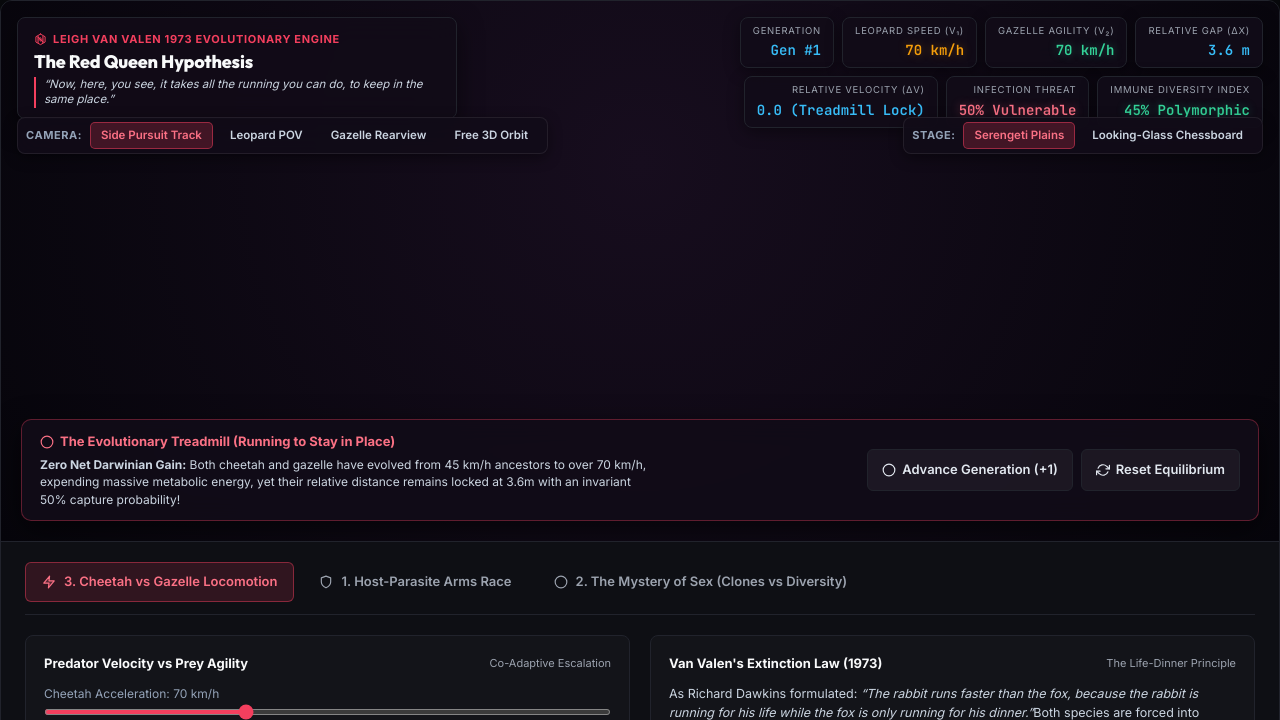
Scenario: RedQueen3DLab › adjusts predator and prey speed sliders in Tab 1
Set the slider named "Predator Speed" to "95" at (409,712), box [44, 709, 611, 715]
(page scrolled)
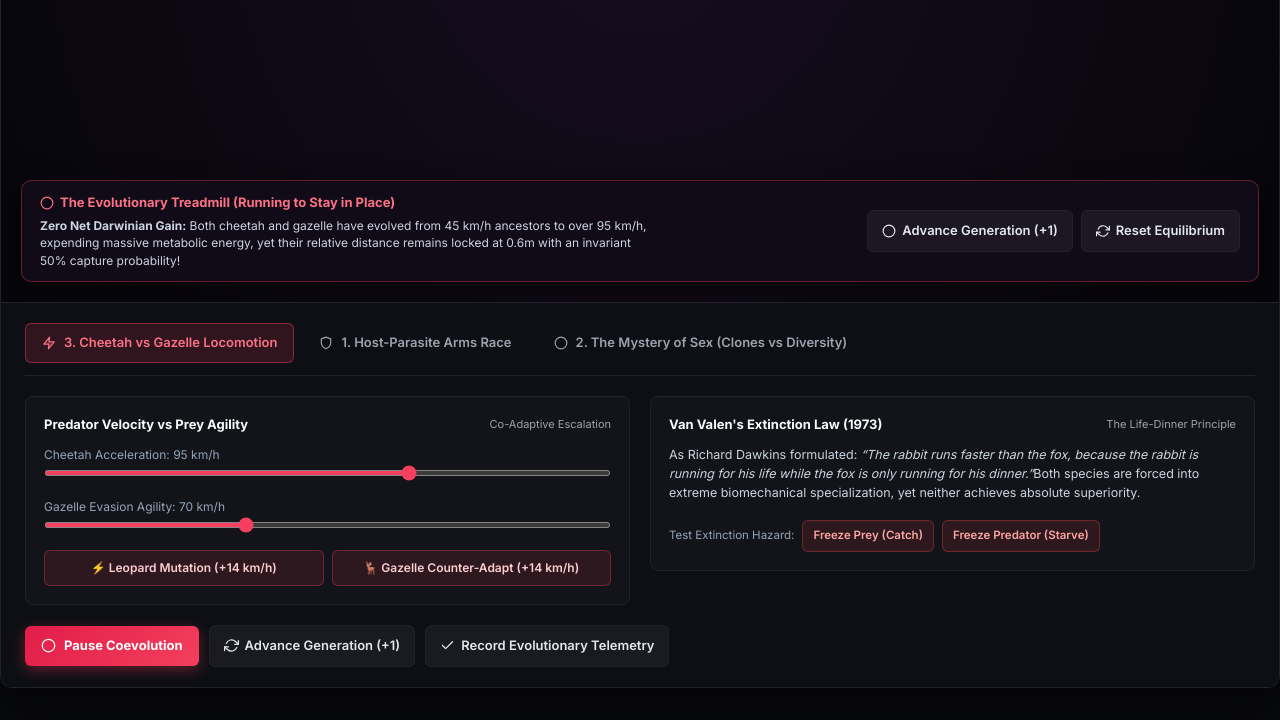
Expected: the text "Cheetah Acceleration: 95 km/h" is shown, [44, 446, 220, 464]
Set the slider named "Prey Agility" to "100" at (441,525), box [44, 522, 611, 528]
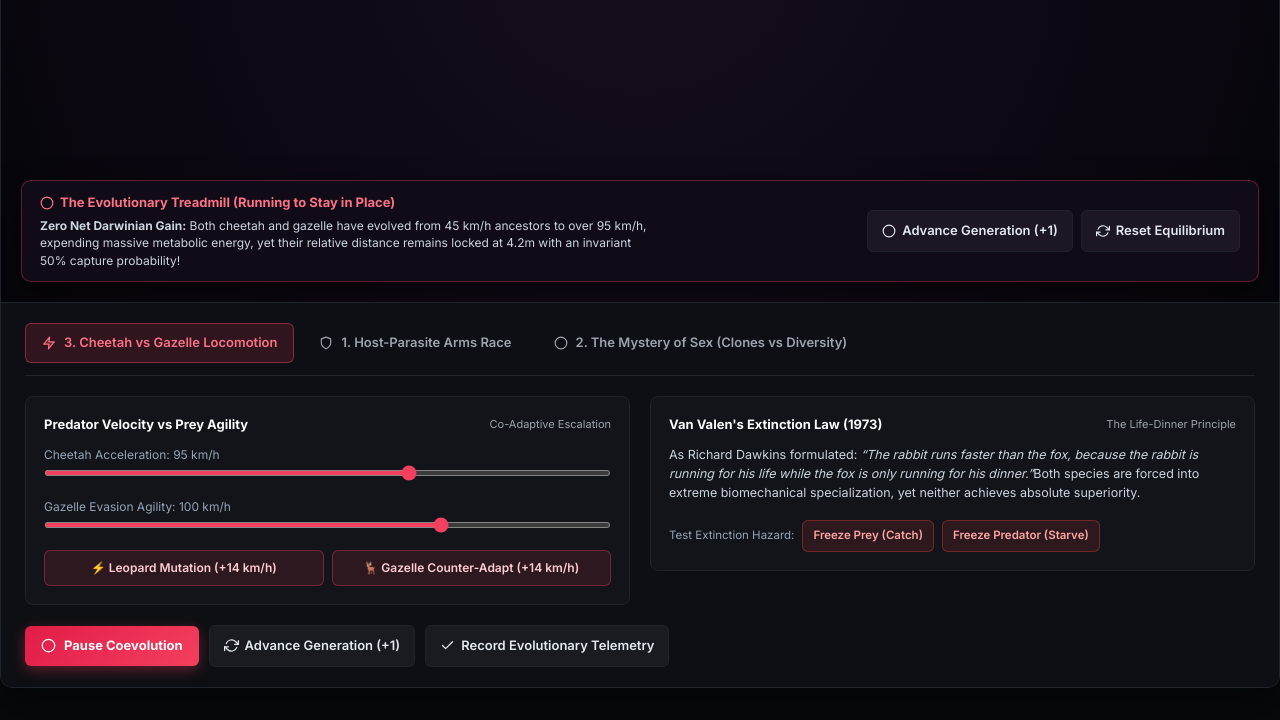
Expected: the text "Gazelle Evasion Agility: 100 km/h" is shown, [44, 498, 231, 516]
